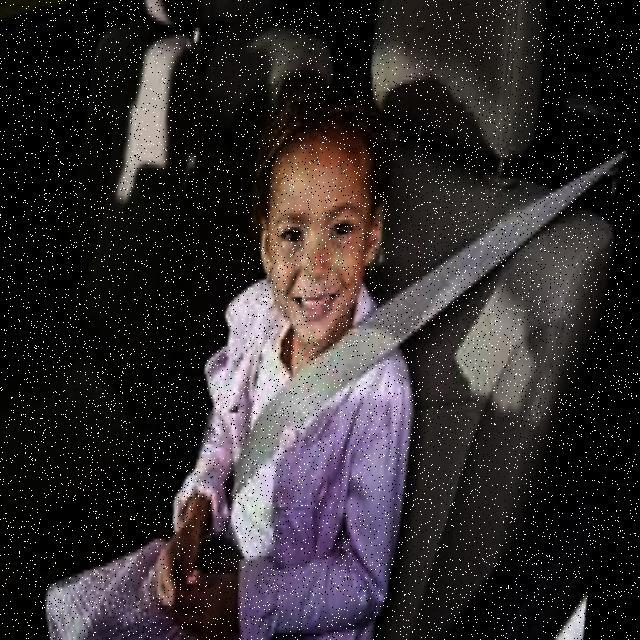seatbelt: (184, 278, 446, 626)
